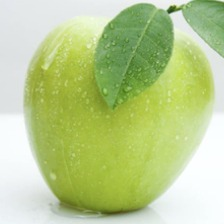apple: (0, 32, 184, 184)
